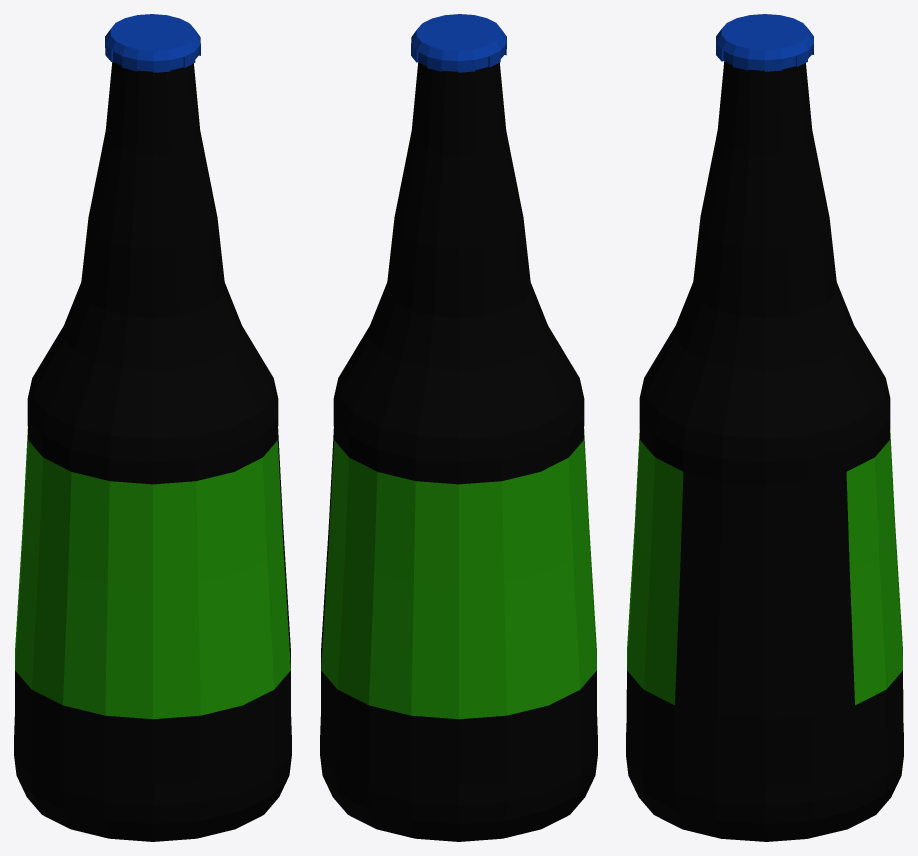
Rendered from Beer_SH.fbx.
3 views of the same model, side by side, from view 1: azimuth 30°, elevation 25°; view 2: azimuth 150°, elevation 25°; view 3: azimuth 270°, elevation 25° (orthographic).
Parts seen in each view (by area): view 1: Beer_SH; view 2: Beer_SH; view 3: Beer_SH.
Part boxes in pixels (bbox=[...]): Beer_SH: bbox=[14, 14, 291, 841]; Beer_SH: bbox=[320, 14, 597, 841]; Beer_SH: bbox=[626, 14, 903, 841].
Bounding box in the file's own units: 9.13 × 27 × 9.
